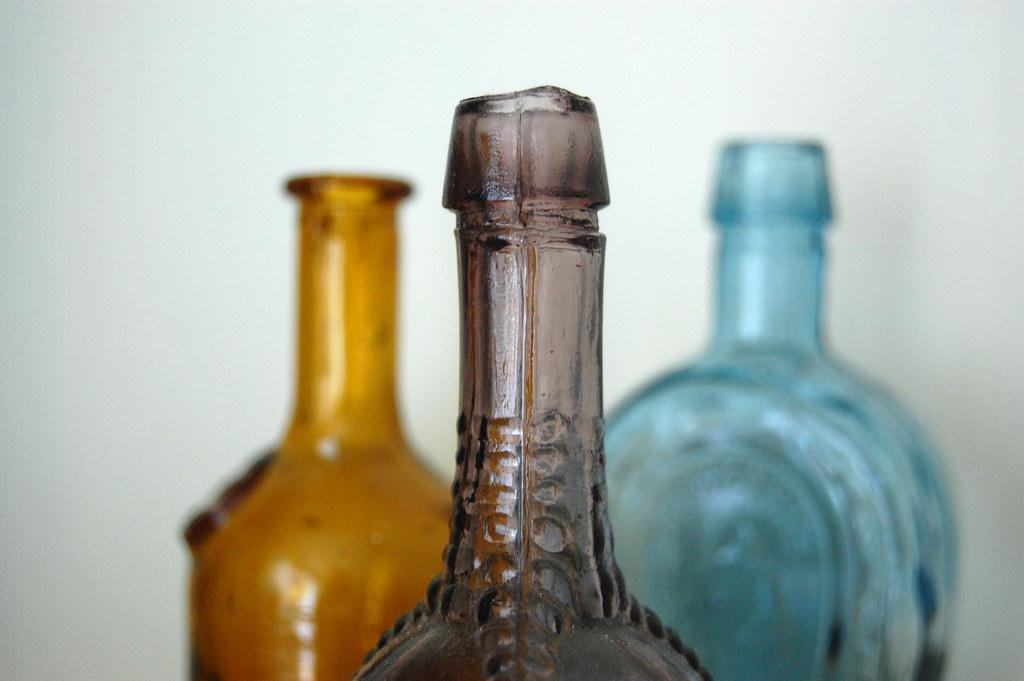bottle: (351, 85, 714, 680), (603, 138, 961, 681), (185, 173, 455, 681)
